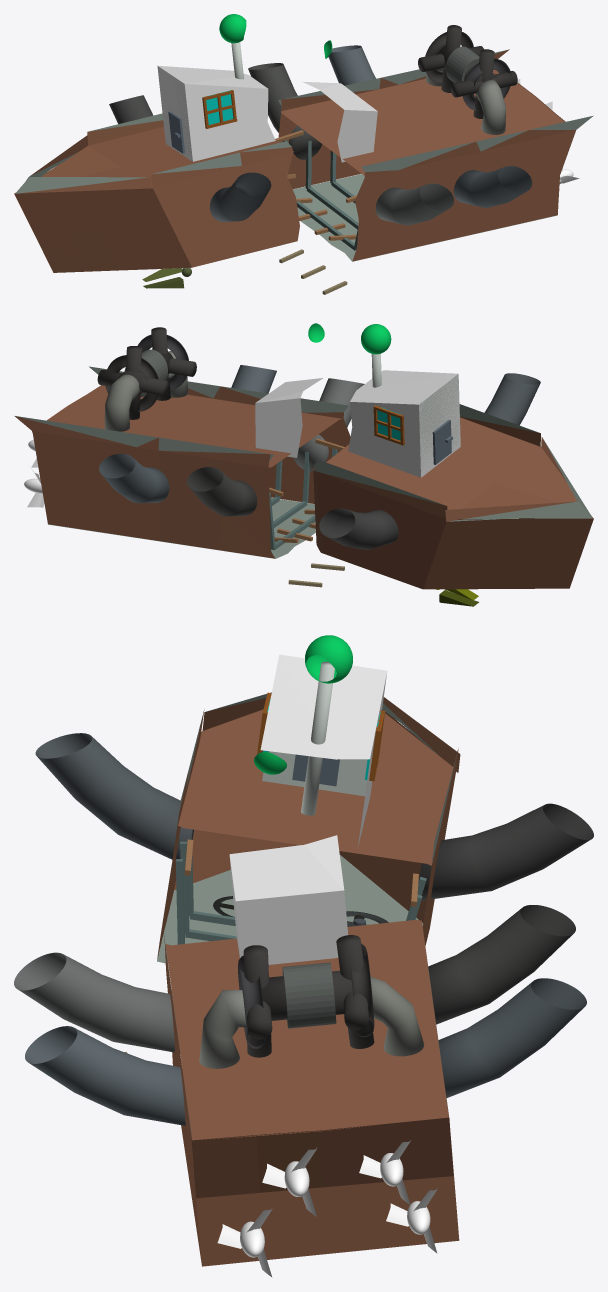
File: shipwreck.gltf
3 renders of one model, top to bottom at view 1: azimuth 30°, elevation 25°; view 2: azimuth 150°, elevation 25°; view 3: azimuth 270°, elevation 25°, orthographic. The views are drawn at different scales.
Parts seen in each view (by area): view 1: Stern, Bow, Bow_立方体, Stern_ancerChach_Torash.001, Stern_ancerChach_Pall.002, Stern_立方体, Stern_円柱.001, Bow_立方体.004, Stern_ancerChach_Pall.005, Bow_raderBall, Bow_MainShip_Face_0039.001, Bow_立方体.002 (+2 smaller); view 2: Stern, Bow, Bow_立方体, Stern_ancerChach_Pall.002, Bow_MainShip_Face_0039.001, Stern_立方体, Stern_ancerChach_Torash.001, Stern_円柱, Bow_立方体.001, Bow_raderBall, Bow_立方体.002, Stern_ancerChach_Pall.005 (+2 smaller); view 3: Stern, Bow, Stern_立方体, Stern_ancerChach_Pall.005, Stern_ancerChach_Pall.002, Stern_ancerChach_Torash.001, Stern_円柱.001, Stern_円柱, Bow_raderPall, Bow_raderBall, Stern_球.001, Stern_ancerChach_Pall (+5 smaller).
Boxes of the visible parts, <box> form: Stern: <box>248,45,593,261</box>; Bow: <box>14,66,299,272</box>; Bow_立方体: <box>157,66,275,161</box>; Stern_ancerChach_Torash.001: <box>450,49,517,118</box>; Stern_ancerChach_Pall.002: <box>418,25,483,92</box>; Stern_立方体: <box>337,110,377,162</box>; Stern_円柱.001: <box>475,79,505,134</box>; Bow_立方体.004: <box>202,90,237,128</box>; Stern_ancerChach_Pall.005: <box>445,46,479,82</box>; Bow_raderBall: <box>219,14,246,43</box>; Bow_MainShip_Face_0039.001: <box>23,135,87,184</box>; Bow_立方体.002: <box>168,111,184,153</box>; Stern: <box>14,365,364,558</box>; Bow: <box>313,370,593,589</box>; Bow_立方体: <box>348,374,460,477</box>; Stern_ancerChach_Pall.002: <box>97,346,168,419</box>; Bow_MainShip_Face_0039.001: <box>445,501,591,521</box>; Stern_立方体: <box>255,398,302,457</box>; Stern_ancerChach_Torash.001: <box>137,327,196,400</box>; Stern_円柱: <box>104,374,139,431</box>; Bow_立方体.001: <box>373,405,404,445</box>; Bow_raderBall: <box>361,324,391,354</box>; Bow_立方体.002: <box>432,419,451,464</box>; Stern_ancerChach_Pall.005: <box>124,349,167,396</box>; Stern: <box>14,835,586,1266</box>; Bow: <box>35,654,593,963</box>; Stern_立方体: <box>229,857,348,964</box>; Stern_ancerChach_Pall.005: <box>282,962,336,1028</box>; Stern_ancerChach_Pall.002: <box>336,935,374,1048</box>; Stern_ancerChach_Torash.001: <box>238,945,272,1057</box>; Stern_円柱.001: <box>199,990,246,1068</box>; Stern_円柱: <box>370,976,424,1056</box>; Bow_raderPall: <box>301,661,334,815</box>; Bow_raderBall: <box>305,635,352,683</box>; Stern_球.001: <box>262,1147,317,1216</box>; Stern_ancerChach_Pall: <box>261,970,352,1020</box>.
Size of the model in its own units: 11.43 by 4.94 by 6.51.
58 materials, 16 textured.
